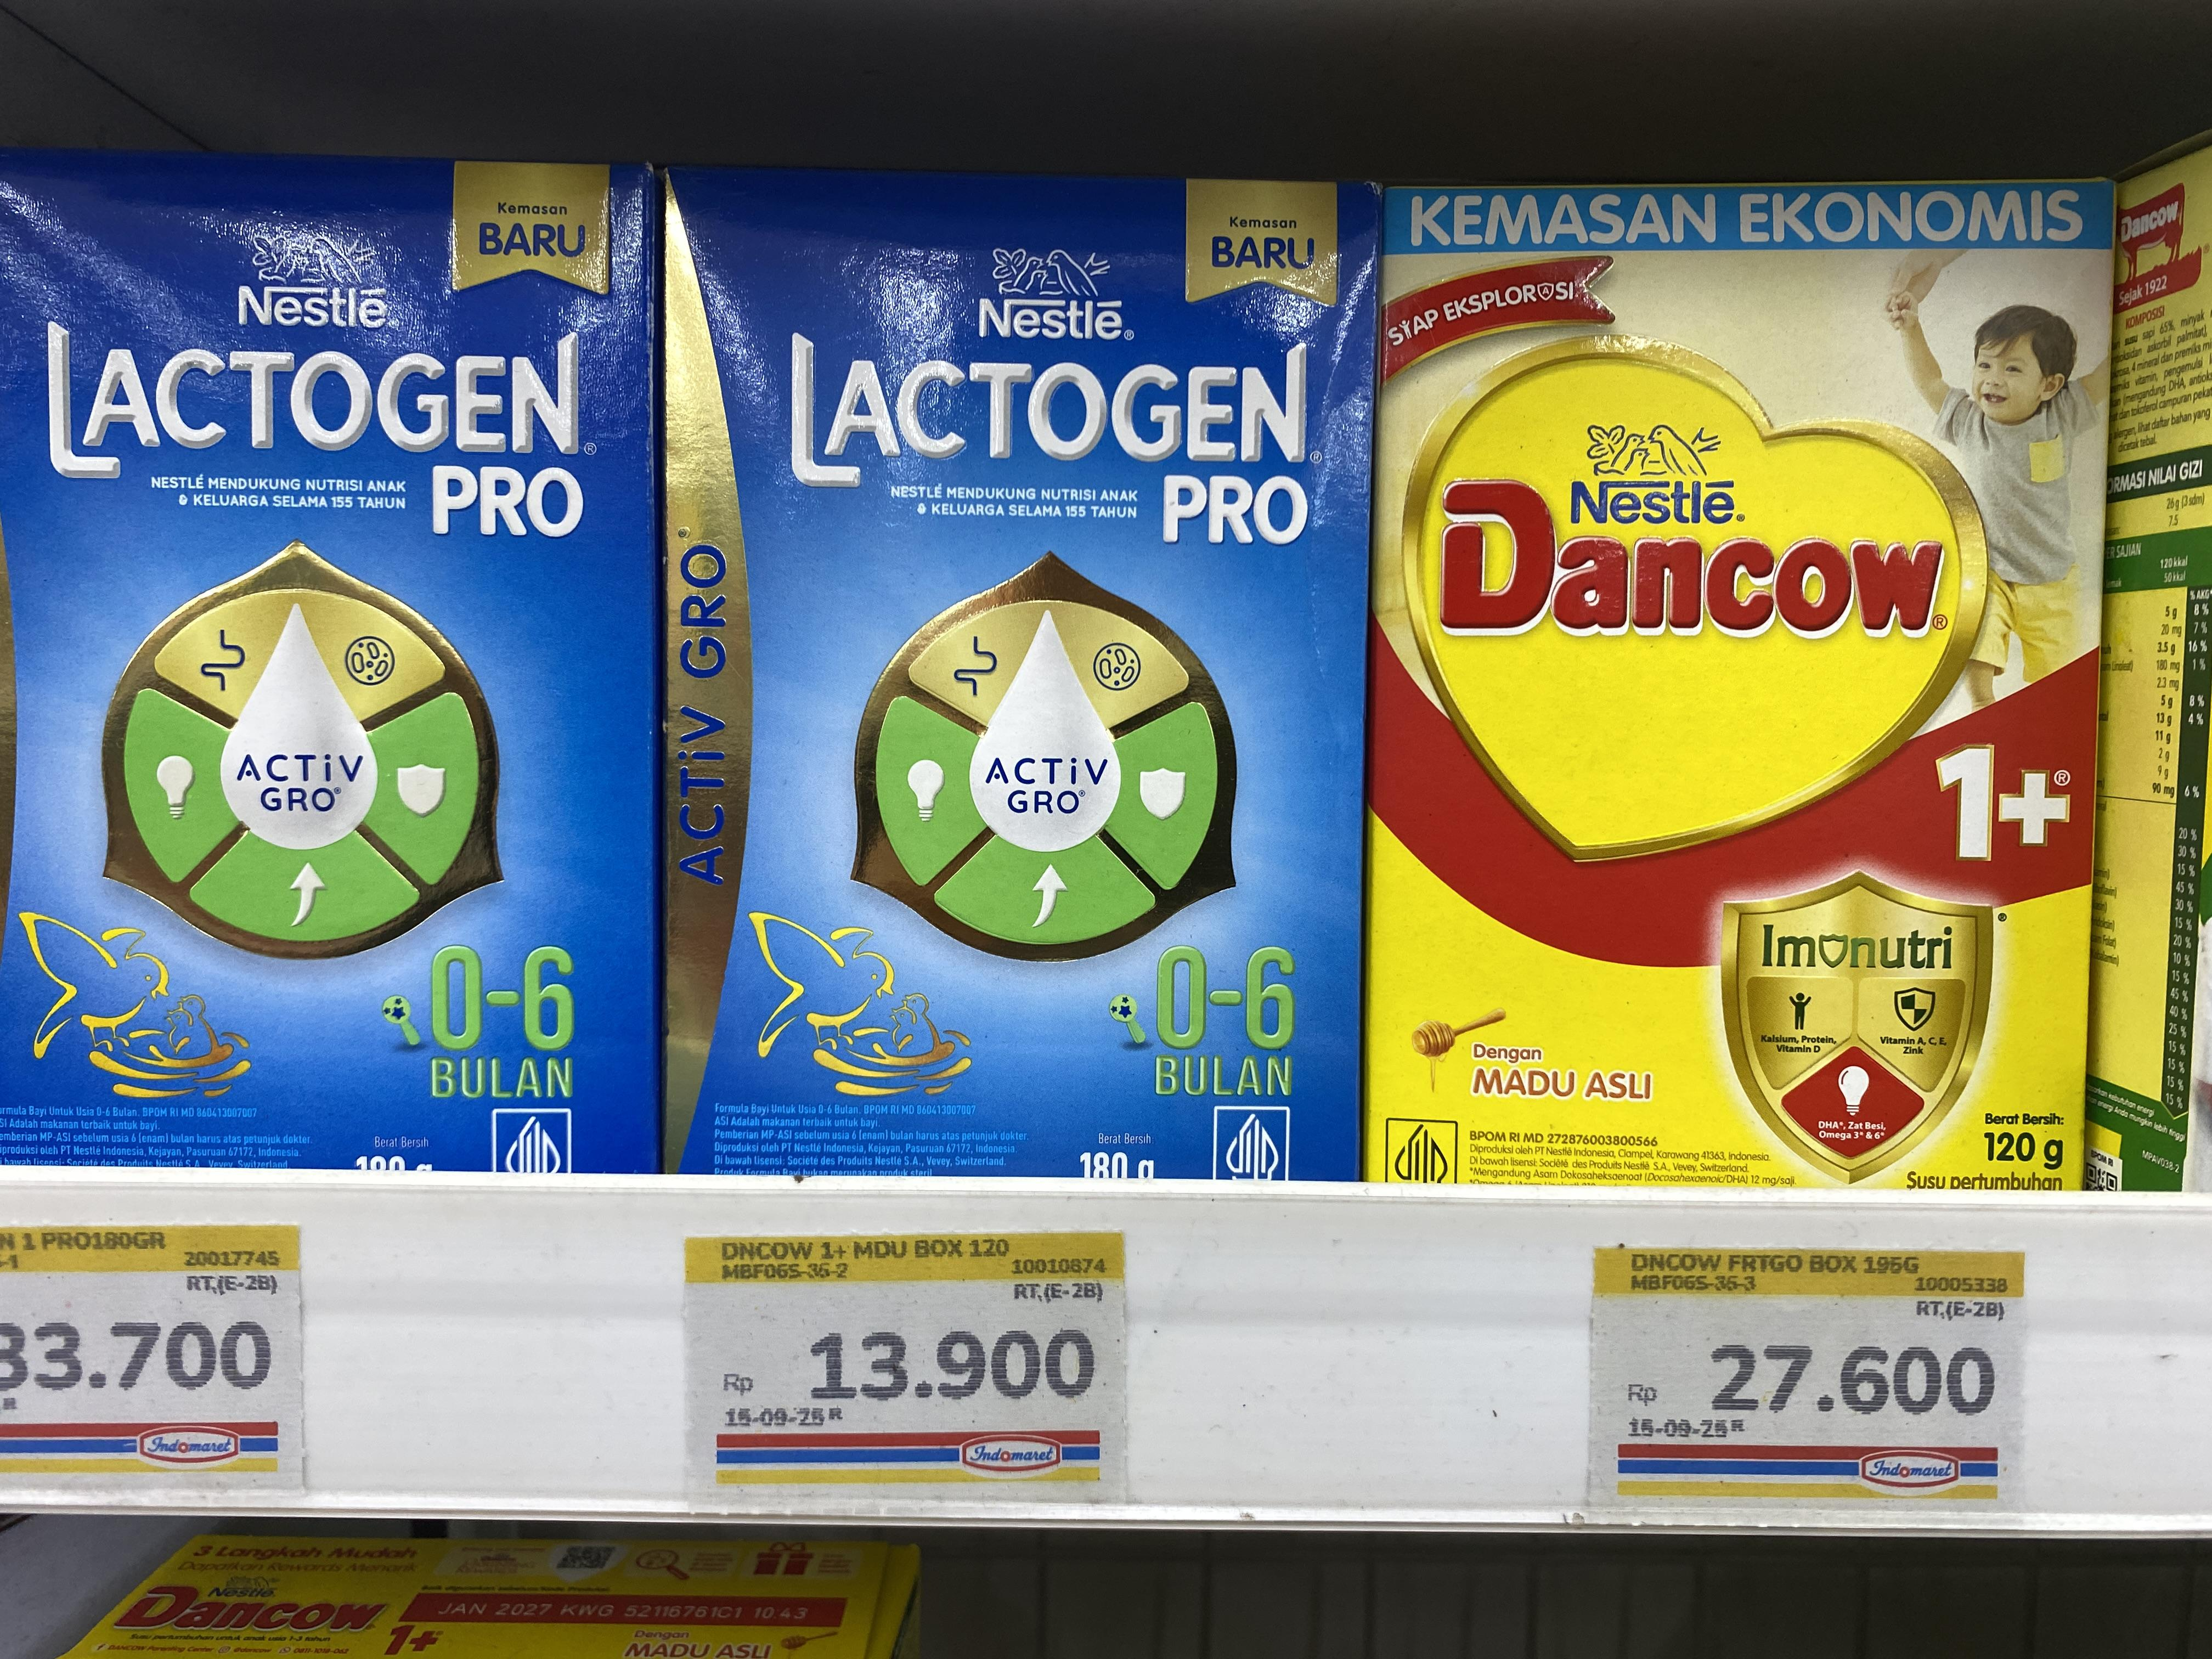DANCOW 1+ Madu Advn ExcNutr 40x200g ID_REDESIGN3: (1360, 242, 2107, 1192)
LACTOGEN 2 Happynutri 40x180g N1 ID_REDESIGN2: (662, 171, 1388, 1183), (2, 146, 664, 1175)
